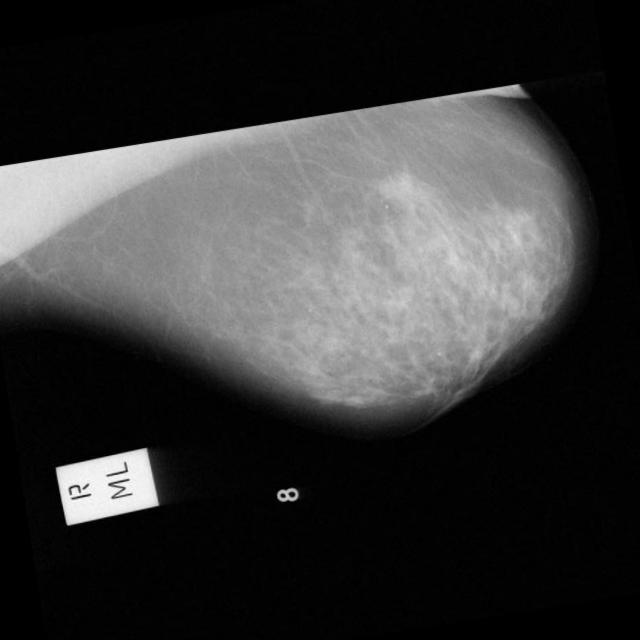MISC: (376, 166, 416, 205)
